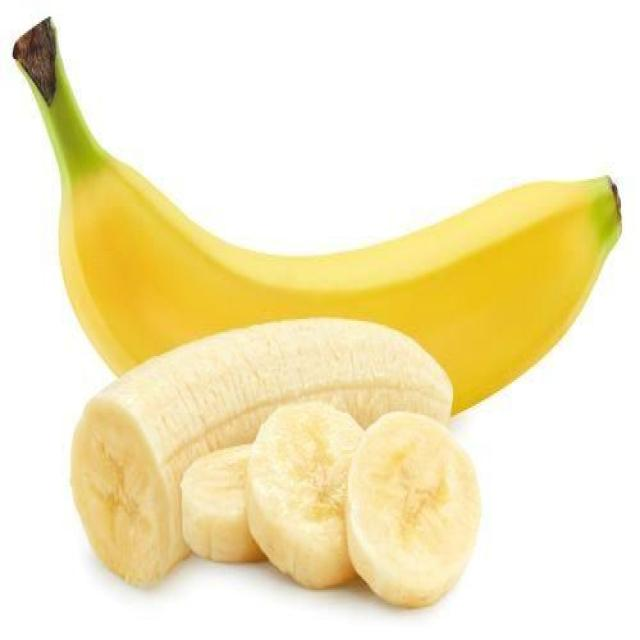banana: (15, 21, 620, 411), (72, 320, 451, 584), (347, 412, 479, 606), (248, 403, 363, 588), (182, 445, 263, 562)
